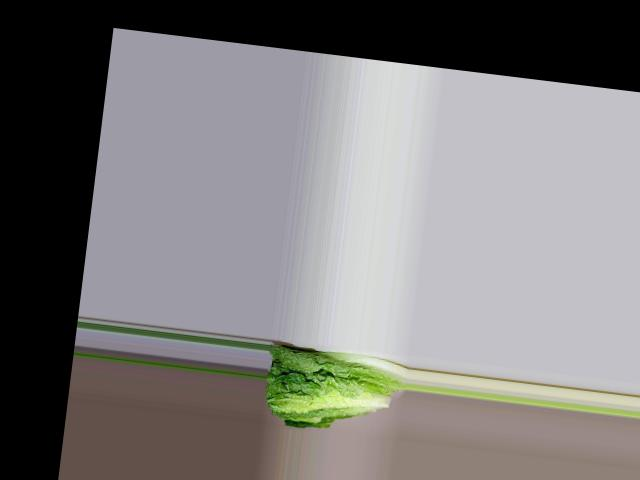lettuce: (260, 340, 402, 429)
